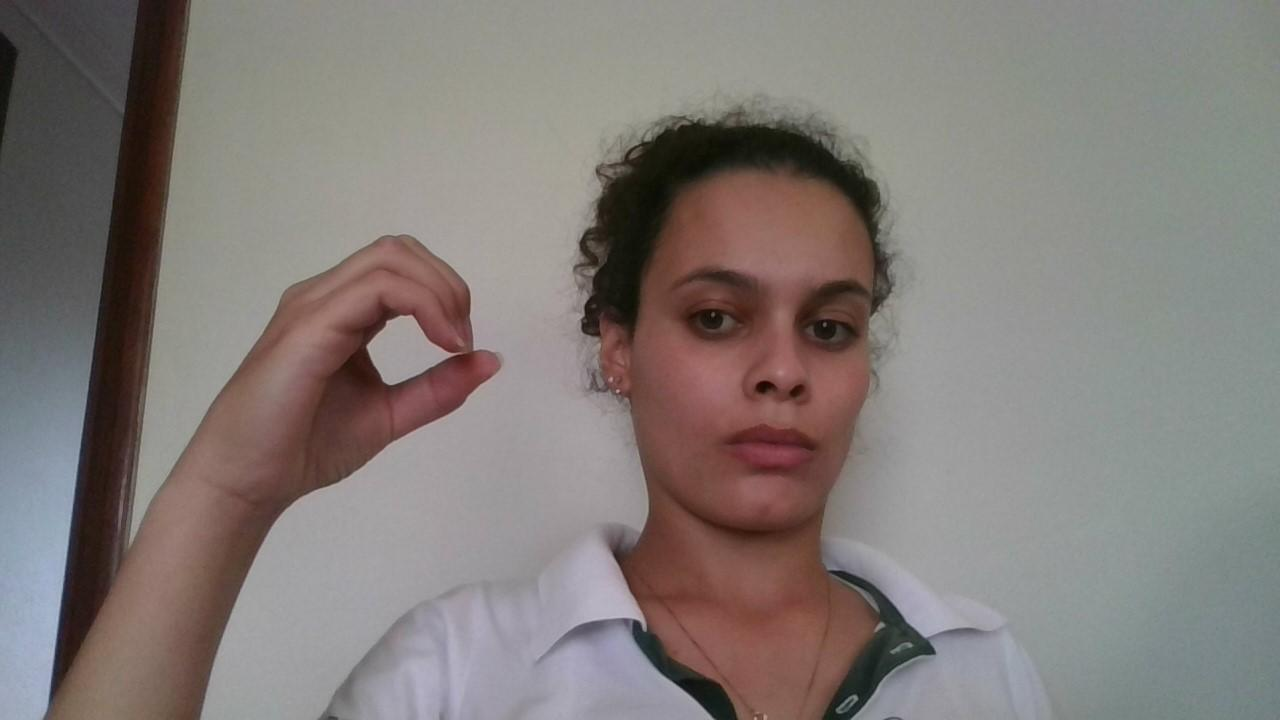O: (228, 234, 512, 482)
